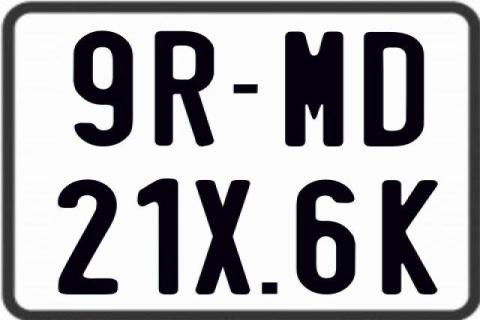0: (296, 180, 360, 298), (71, 29, 133, 147), (57, 177, 119, 293), (136, 176, 179, 293)
D: (362, 32, 422, 150)
K: (379, 179, 441, 296)
M: (284, 30, 346, 148)
R: (152, 29, 213, 147)
X: (196, 180, 256, 298)
